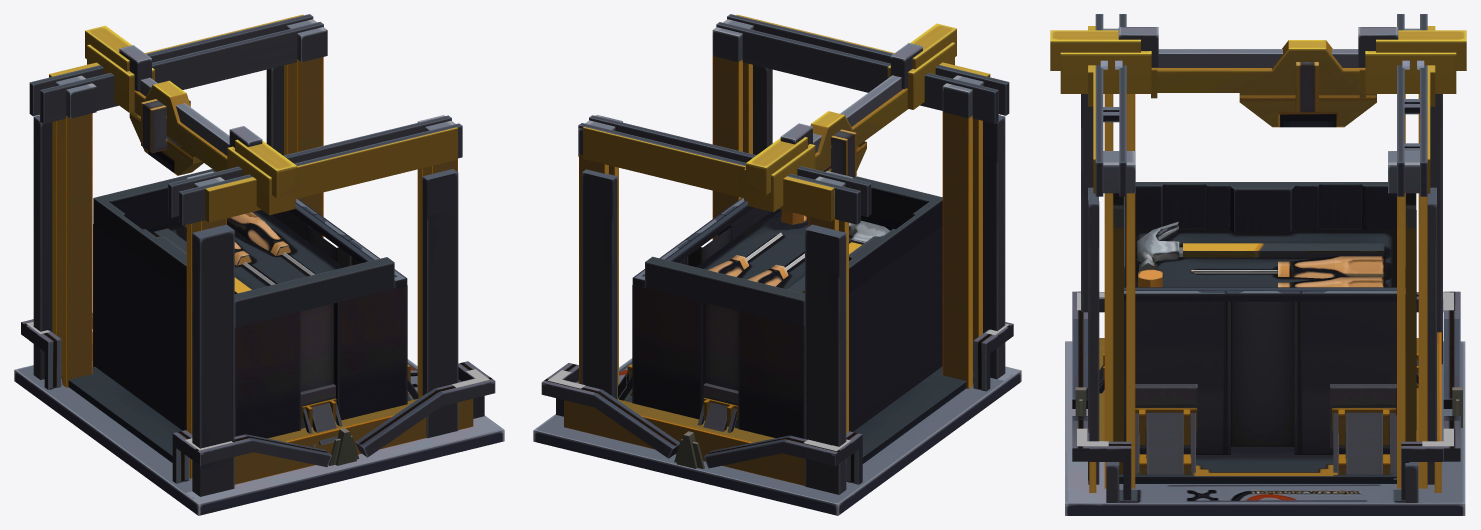
Rendered from trap_205_mufrfm_2.fbx.
3 renders of one model, left to right at view 1: azimuth 30°, elevation 25°; view 2: azimuth 150°, elevation 25°; view 3: azimuth 270°, elevation 25°, orthographic. The views are drawn at different scales.
Parts seen in each view (by area): view 1: polySurface685; view 2: polySurface685; view 3: polySurface685.
Part boxes in pixels (box(x1,y1,x2,y2)): polySurface685: box(14, 14, 504, 515); polySurface685: box(533, 14, 1021, 515); polySurface685: box(1050, 14, 1466, 515).
Size of the model in its own units: 1.01 by 1.05 by 1.08.
Materials: 1 (1 with a texture image).
